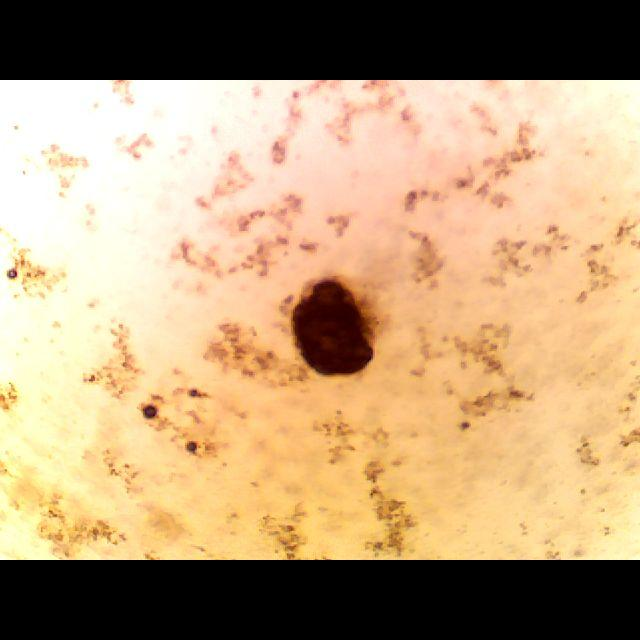Fragment: (278, 266, 389, 384)
